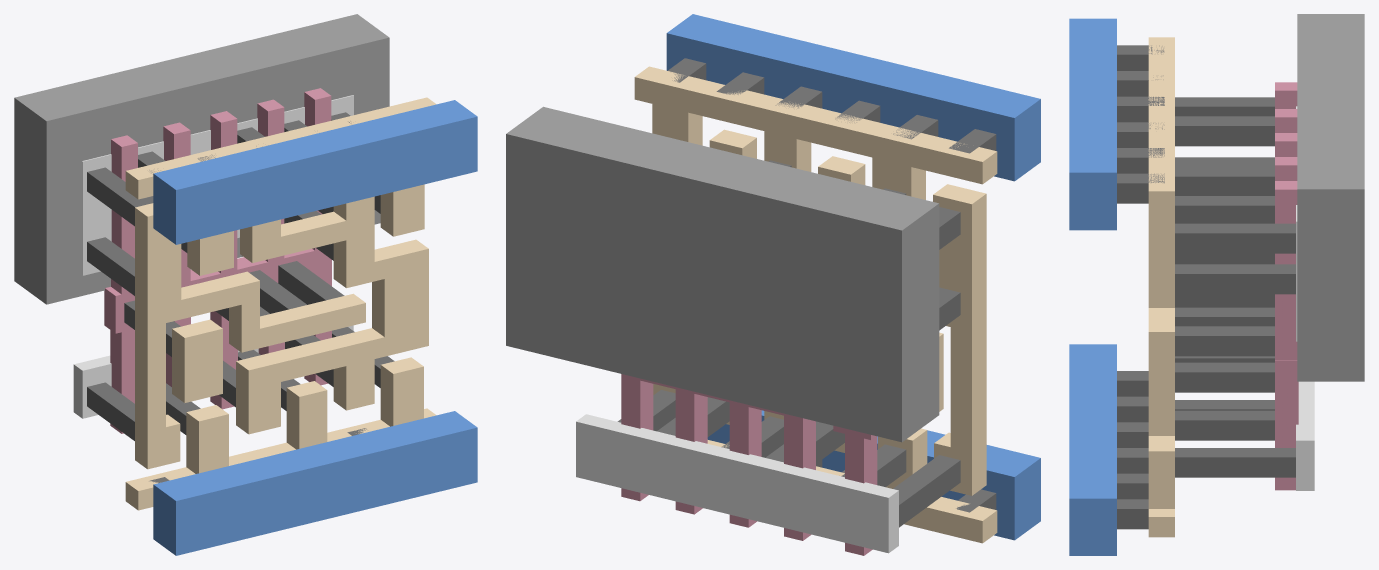
The model's file is sky130_fd_sc_hd__clkbuf_4.gds.gltf.
The picture shows the model from 3 angles, left to right: view 1: azimuth 30°, elevation 25°; view 2: azimuth 150°, elevation 25°; view 3: azimuth 270°, elevation 25°; orthographic projection. The views are drawn at different scales.
Parts seen in each view (by area): view 1: sky130_fd_sc_hd__clkbuf_4_li1, sky130_fd_sc_hd__clkbuf_4_met1, sky130_fd_sc_hd__clkbuf_4_nwell, sky130_fd_sc_hd__clkbuf_4_licon, sky130_fd_sc_hd__clkbuf_4_poly, sky130_fd_sc_hd__clkbuf_4_diff; view 2: sky130_fd_sc_hd__clkbuf_4_nwell, sky130_fd_sc_hd__clkbuf_4_li1, sky130_fd_sc_hd__clkbuf_4_met1, sky130_fd_sc_hd__clkbuf_4_diff, sky130_fd_sc_hd__clkbuf_4_poly, sky130_fd_sc_hd__clkbuf_4_licon, sky130_fd_sc_hd__clkbuf_4_mcon; view 3: sky130_fd_sc_hd__clkbuf_4_licon, sky130_fd_sc_hd__clkbuf_4_nwell, sky130_fd_sc_hd__clkbuf_4_met1, sky130_fd_sc_hd__clkbuf_4_li1, sky130_fd_sc_hd__clkbuf_4_mcon, sky130_fd_sc_hd__clkbuf_4_poly, sky130_fd_sc_hd__clkbuf_4_diff.
Boxes of the visible parts, box(x1,y1,x2,y2) form: sky130_fd_sc_hd__clkbuf_4_li1: box(125, 97, 436, 510); sky130_fd_sc_hd__clkbuf_4_met1: box(153, 100, 477, 555); sky130_fd_sc_hd__clkbuf_4_nwell: box(14, 14, 389, 304); sky130_fd_sc_hd__clkbuf_4_licon: box(87, 112, 394, 440); sky130_fd_sc_hd__clkbuf_4_poly: box(104, 88, 331, 433); sky130_fd_sc_hd__clkbuf_4_diff: box(73, 95, 353, 418); sky130_fd_sc_hd__clkbuf_4_nwell: box(506, 106, 939, 442); sky130_fd_sc_hd__clkbuf_4_li1: box(634, 66, 997, 543); sky130_fd_sc_hd__clkbuf_4_met1: box(666, 14, 1040, 540); sky130_fd_sc_hd__clkbuf_4_diff: box(576, 414, 898, 553); sky130_fd_sc_hd__clkbuf_4_poly: box(621, 374, 877, 555); sky130_fd_sc_hd__clkbuf_4_licon: box(617, 160, 960, 527); sky130_fd_sc_hd__clkbuf_4_mcon: box(668, 58, 996, 512); sky130_fd_sc_hd__clkbuf_4_licon: box(1175, 97, 1295, 477); sky130_fd_sc_hd__clkbuf_4_nwell: box(1297, 14, 1364, 381); sky130_fd_sc_hd__clkbuf_4_met1: box(1069, 18, 1116, 555); sky130_fd_sc_hd__clkbuf_4_li1: box(1148, 37, 1174, 537); sky130_fd_sc_hd__clkbuf_4_mcon: box(1117, 45, 1164, 529); sky130_fd_sc_hd__clkbuf_4_poly: box(1275, 82, 1298, 490); sky130_fd_sc_hd__clkbuf_4_diff: box(1296, 106, 1314, 490).
Bounding box in the file's own units: 3.14 × 3.2 × 2.24.
